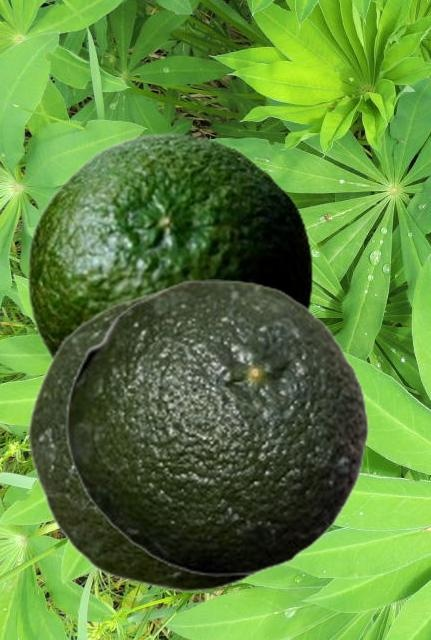calamansi: (65, 279, 369, 575), (27, 287, 268, 591), (26, 132, 312, 361)
